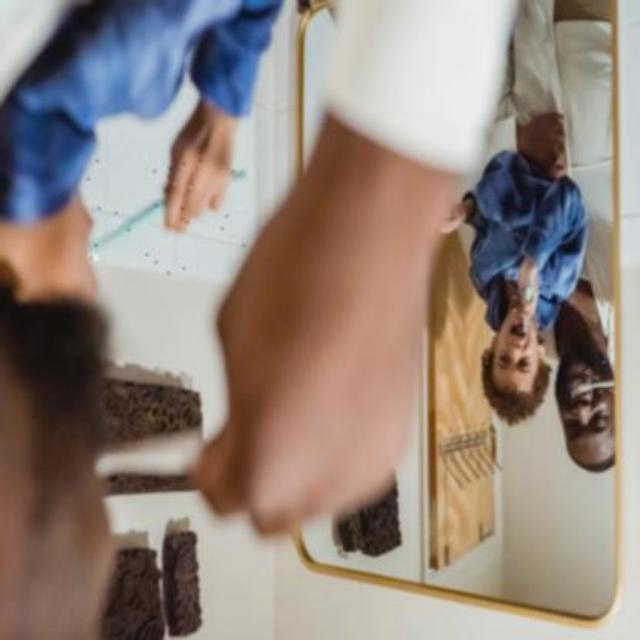toothbrush: (80, 156, 250, 276), (571, 362, 615, 406), (514, 274, 536, 342)
